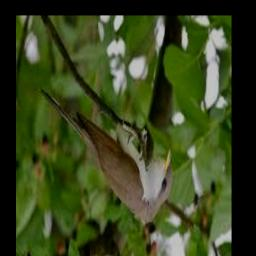Cuckoo: (40, 89, 171, 224)
